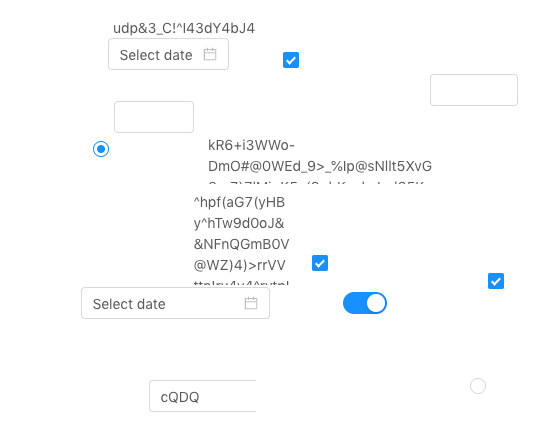Checkbox: (488, 270, 504, 291), (283, 49, 299, 70), (312, 252, 328, 273)
DatePicker: (81, 287, 270, 319), (108, 38, 229, 70)
Input: (114, 101, 278, 133), (149, 380, 256, 412), (430, 74, 518, 106)
Radio: (93, 138, 109, 158), (470, 375, 486, 395)
Switch: (343, 291, 387, 315)
Text: (208, 134, 434, 184), (194, 191, 291, 285), (113, 17, 259, 37)
